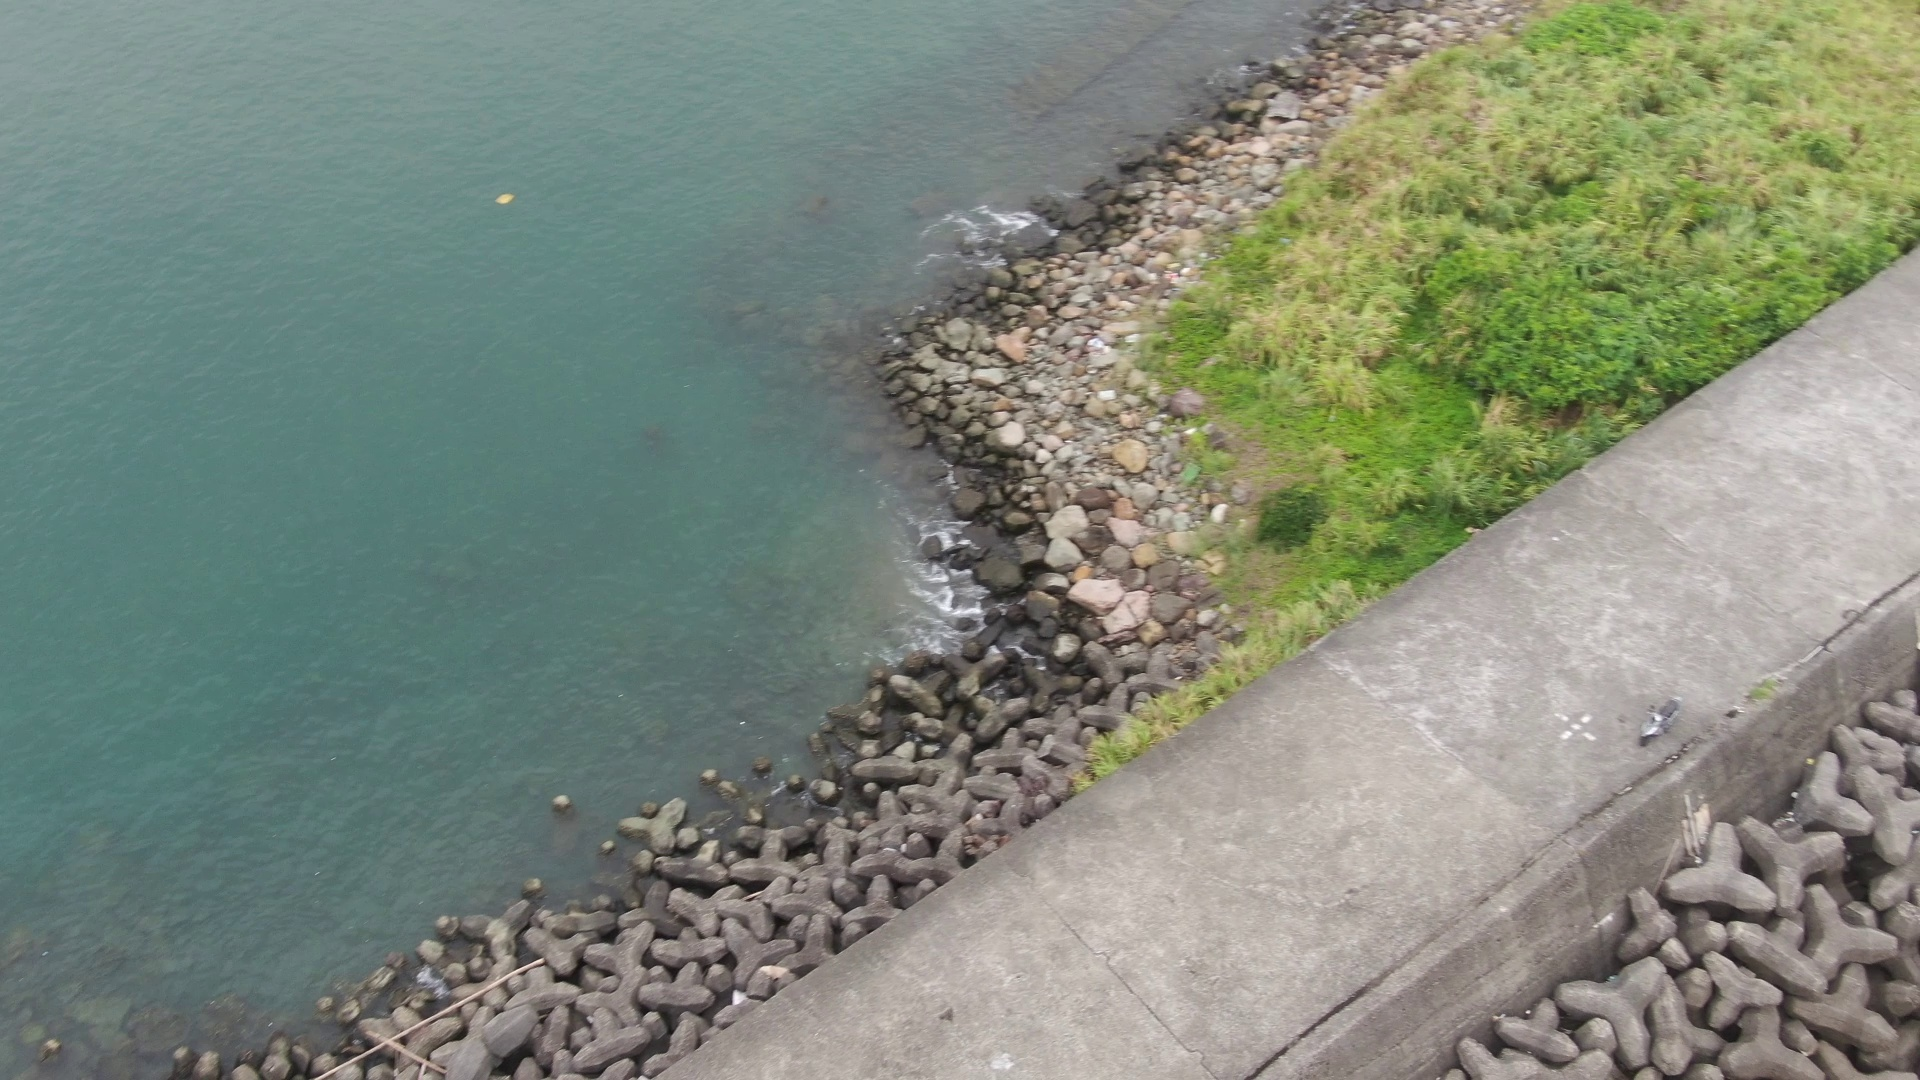garbage: (487, 186, 527, 229)
